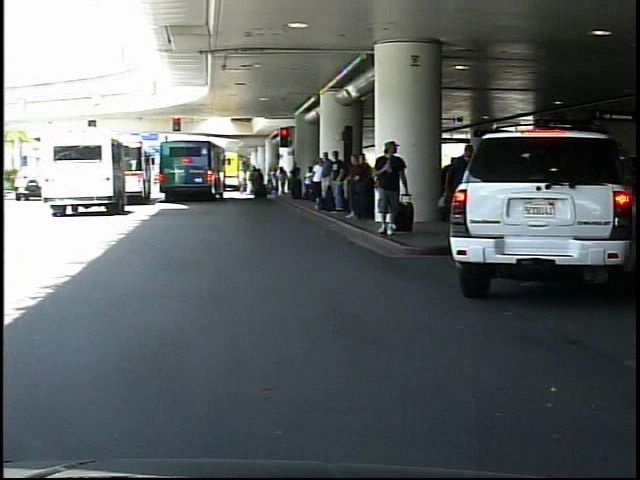person: (374, 139, 411, 240)
